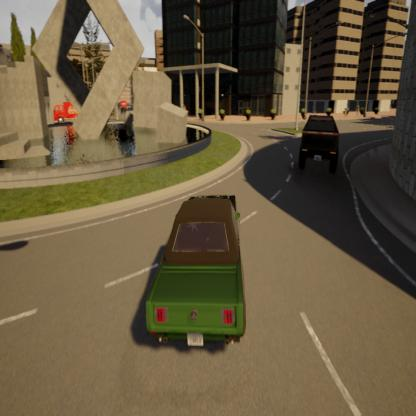Cars: (138, 182, 266, 359), (289, 97, 345, 202)
